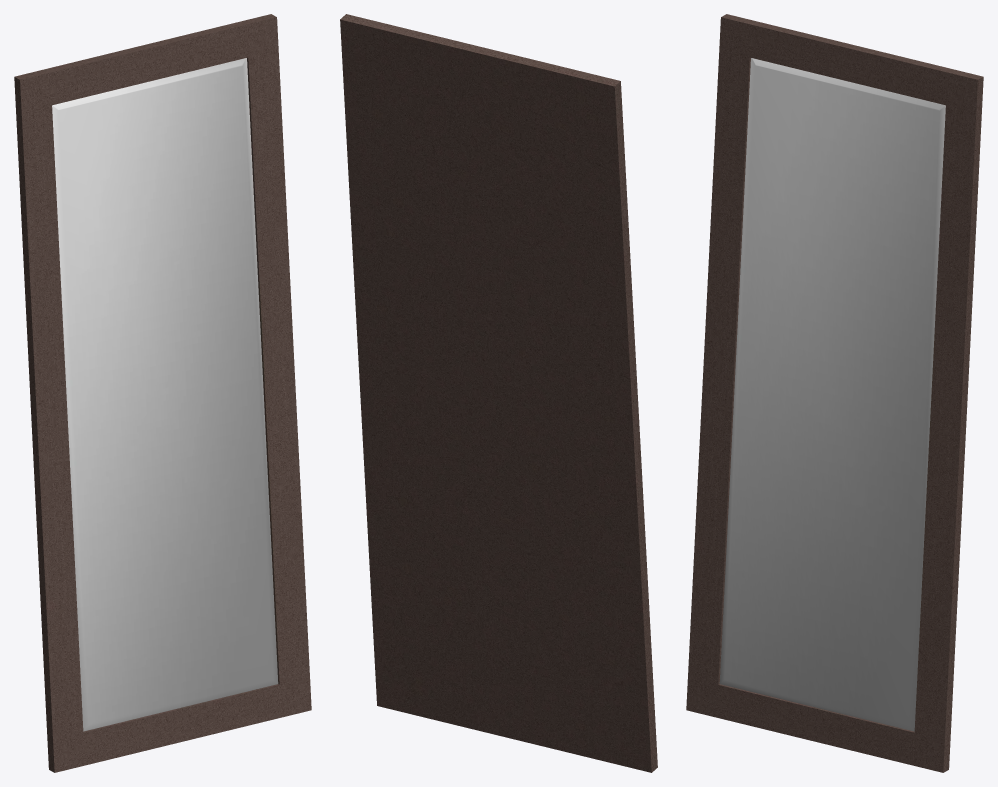
File: B071RNV5PK.glb
The picture shows the model from 3 angles, left to right: view 1: azimuth 30°, elevation 25°; view 2: azimuth 150°, elevation 25°; view 3: azimuth 330°, elevation 25°; orthographic projection. The views are drawn at different scales.
Parts seen in each view (by area): view 1: RootNode; view 2: RootNode; view 3: RootNode.
Boxes of the visible parts, left/top/right/bottom form: RootNode: left=14, top=14, right=311, bottom=772; RootNode: left=340, top=14, right=657, bottom=772; RootNode: left=686, top=14, right=983, bottom=772.
Bounding box in the file's own units: 0.8124 × 2.02 × 0.2211.
Materials: 1 (1 with a texture image).
